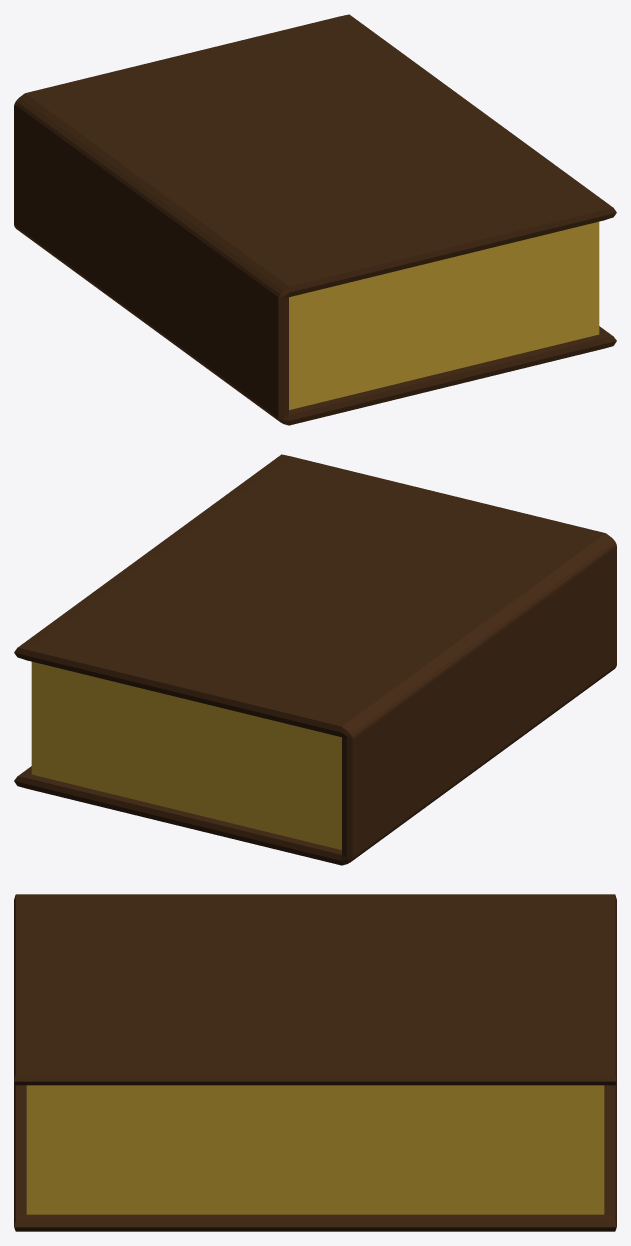
File: V_Luiz06_Livro.fbx
3 renders of one model, top to bottom at view 1: azimuth 30°, elevation 25°; view 2: azimuth 150°, elevation 25°; view 3: azimuth 270°, elevation 25°, orthographic. The views are drawn at different scales.
Visible parts, largest first — view 1: Cube; view 2: Cube; view 3: Cube.
Part boxes in pixels (x1=…): Cube: x1=14, y1=14, x2=616, y2=425; Cube: x1=14, y1=454, x2=616, y2=865; Cube: x1=14, y1=894, x2=616, y2=1231.
Size of the model in its own units: 22.08 by 8.67 by 30.04.
